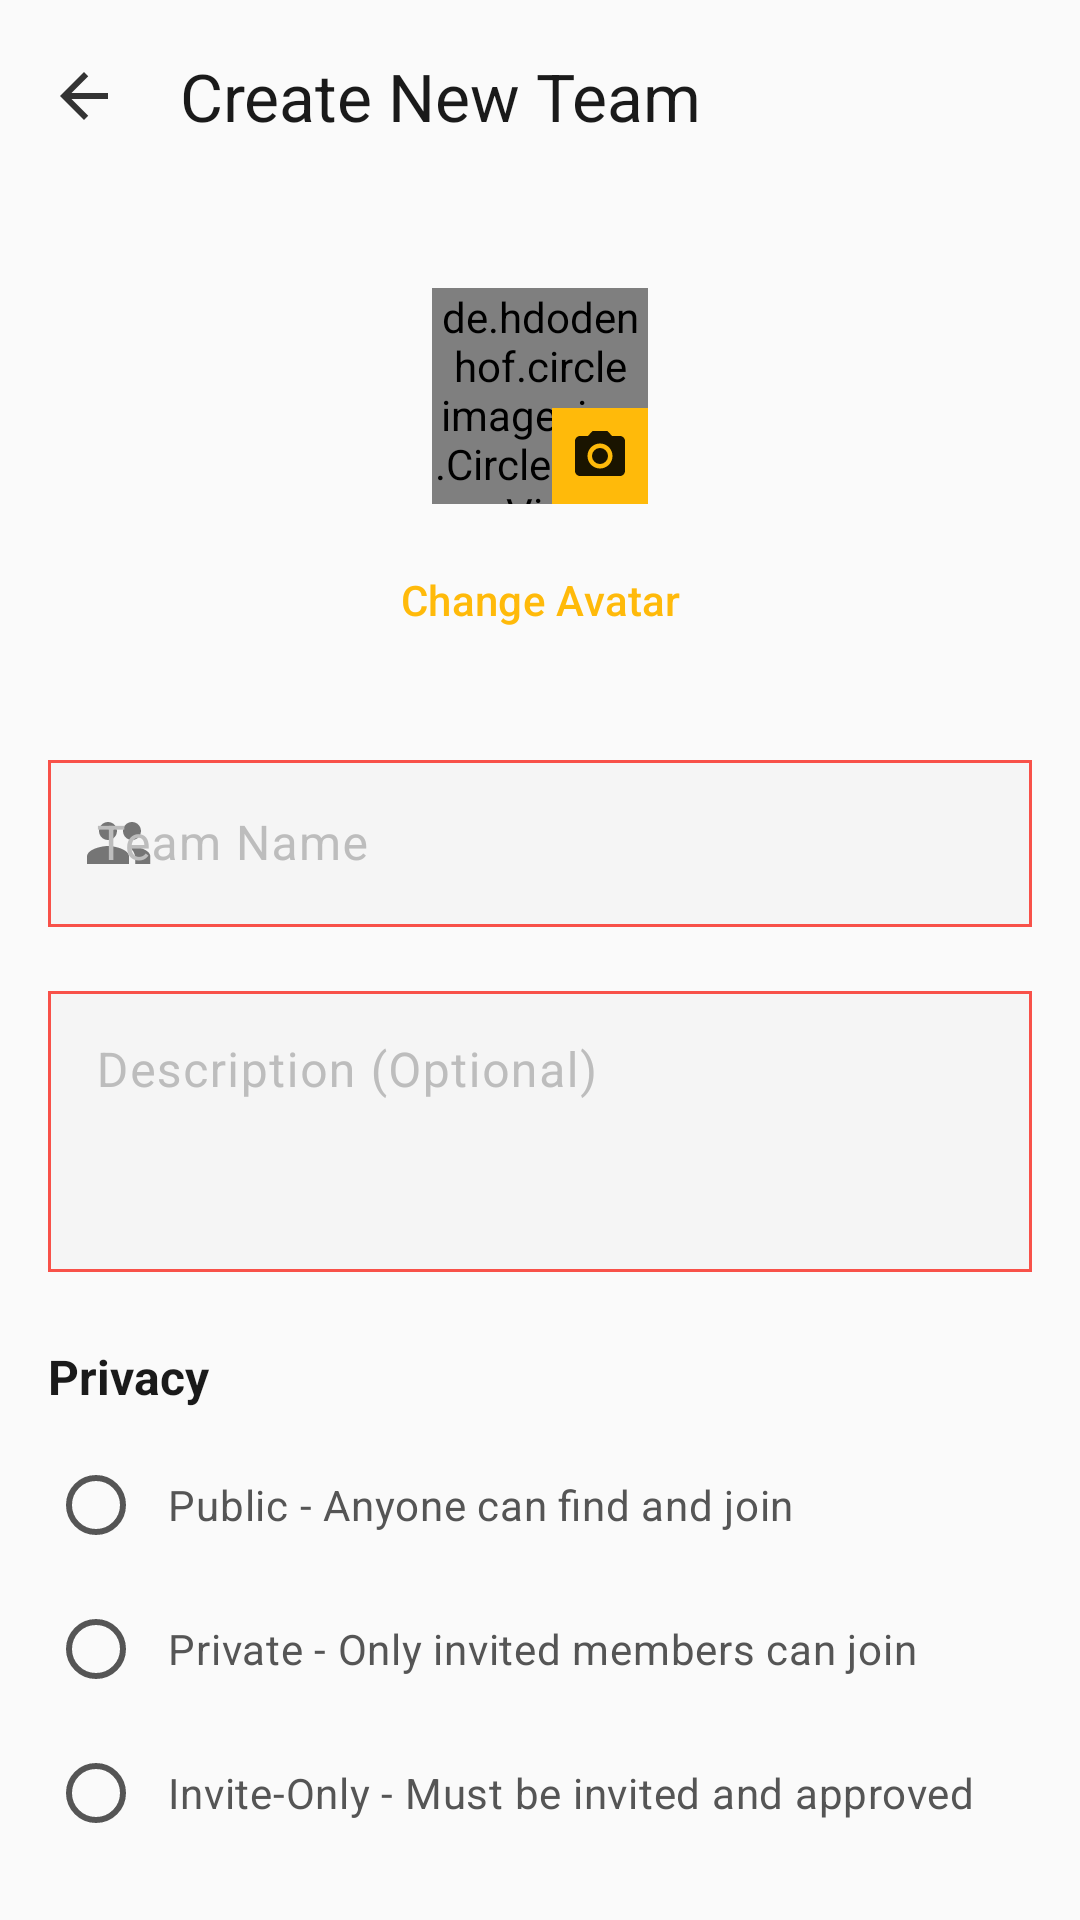

Point at icon controls on the screen. Image size 1080px×1920px, points as (x,y).
Upload avatar: (600,456)
